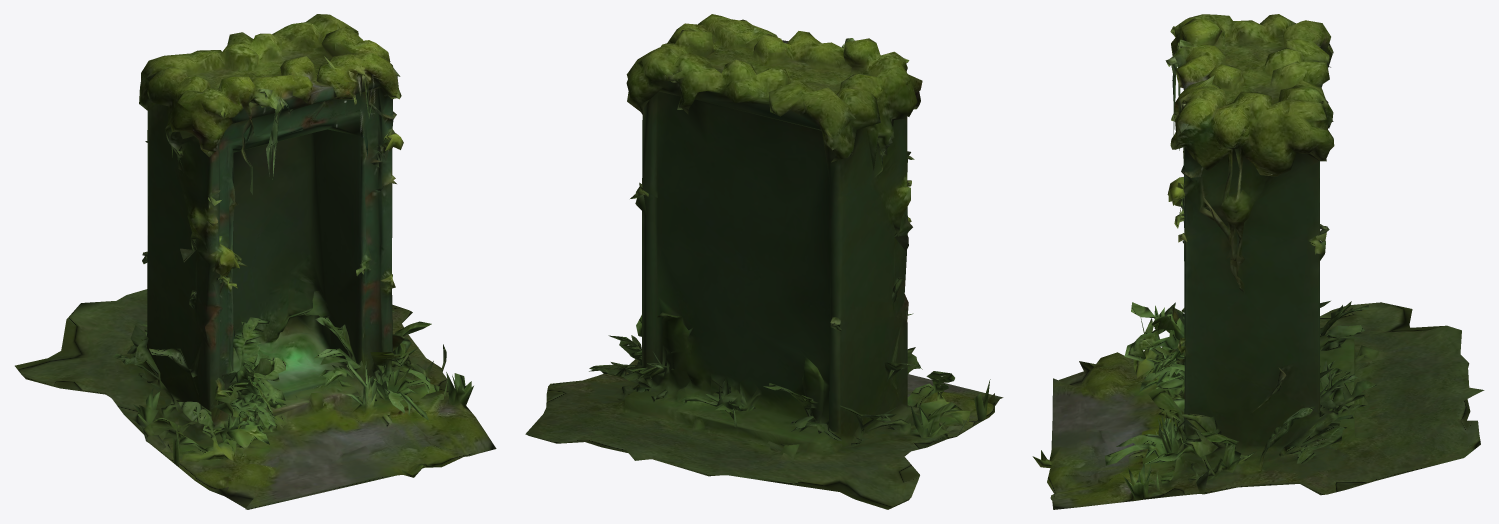
The model's file is level1-overgrown-doorway.glb.
3 renders of one model, left to right at view 1: azimuth 30°, elevation 25°; view 2: azimuth 150°, elevation 25°; view 3: azimuth 270°, elevation 25°, orthographic. The views are drawn at different scales.
Visible parts, largest first — view 1: tripo_node_3b50ba01-006d-4536-8af3-91c159e6d917; view 2: tripo_node_3b50ba01-006d-4536-8af3-91c159e6d917; view 3: tripo_node_3b50ba01-006d-4536-8af3-91c159e6d917.
Boxes of the visible parts, box(x1,y1,x2,y2) form: tripo_node_3b50ba01-006d-4536-8af3-91c159e6d917: box(15, 14, 496, 509); tripo_node_3b50ba01-006d-4536-8af3-91c159e6d917: box(525, 14, 1003, 509); tripo_node_3b50ba01-006d-4536-8af3-91c159e6d917: box(1032, 14, 1484, 509).
Bounding box in the file's own units: 3.27 × 3.2 × 3.33.
1 material, 1 textured.
